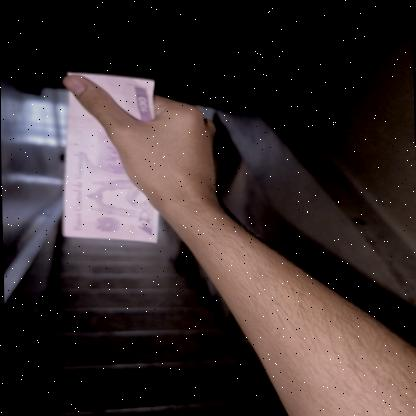one_hundred-back-vef: (57, 67, 159, 242)
